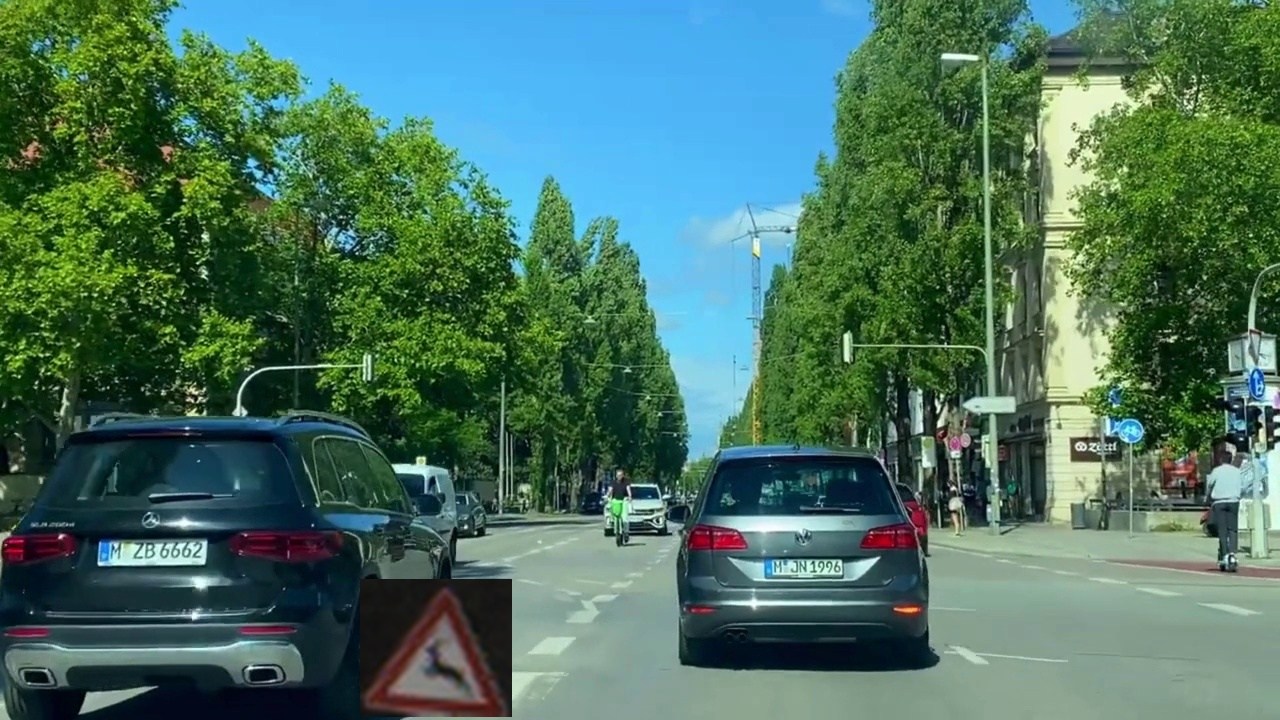Wild animals: (360, 579, 512, 717)
